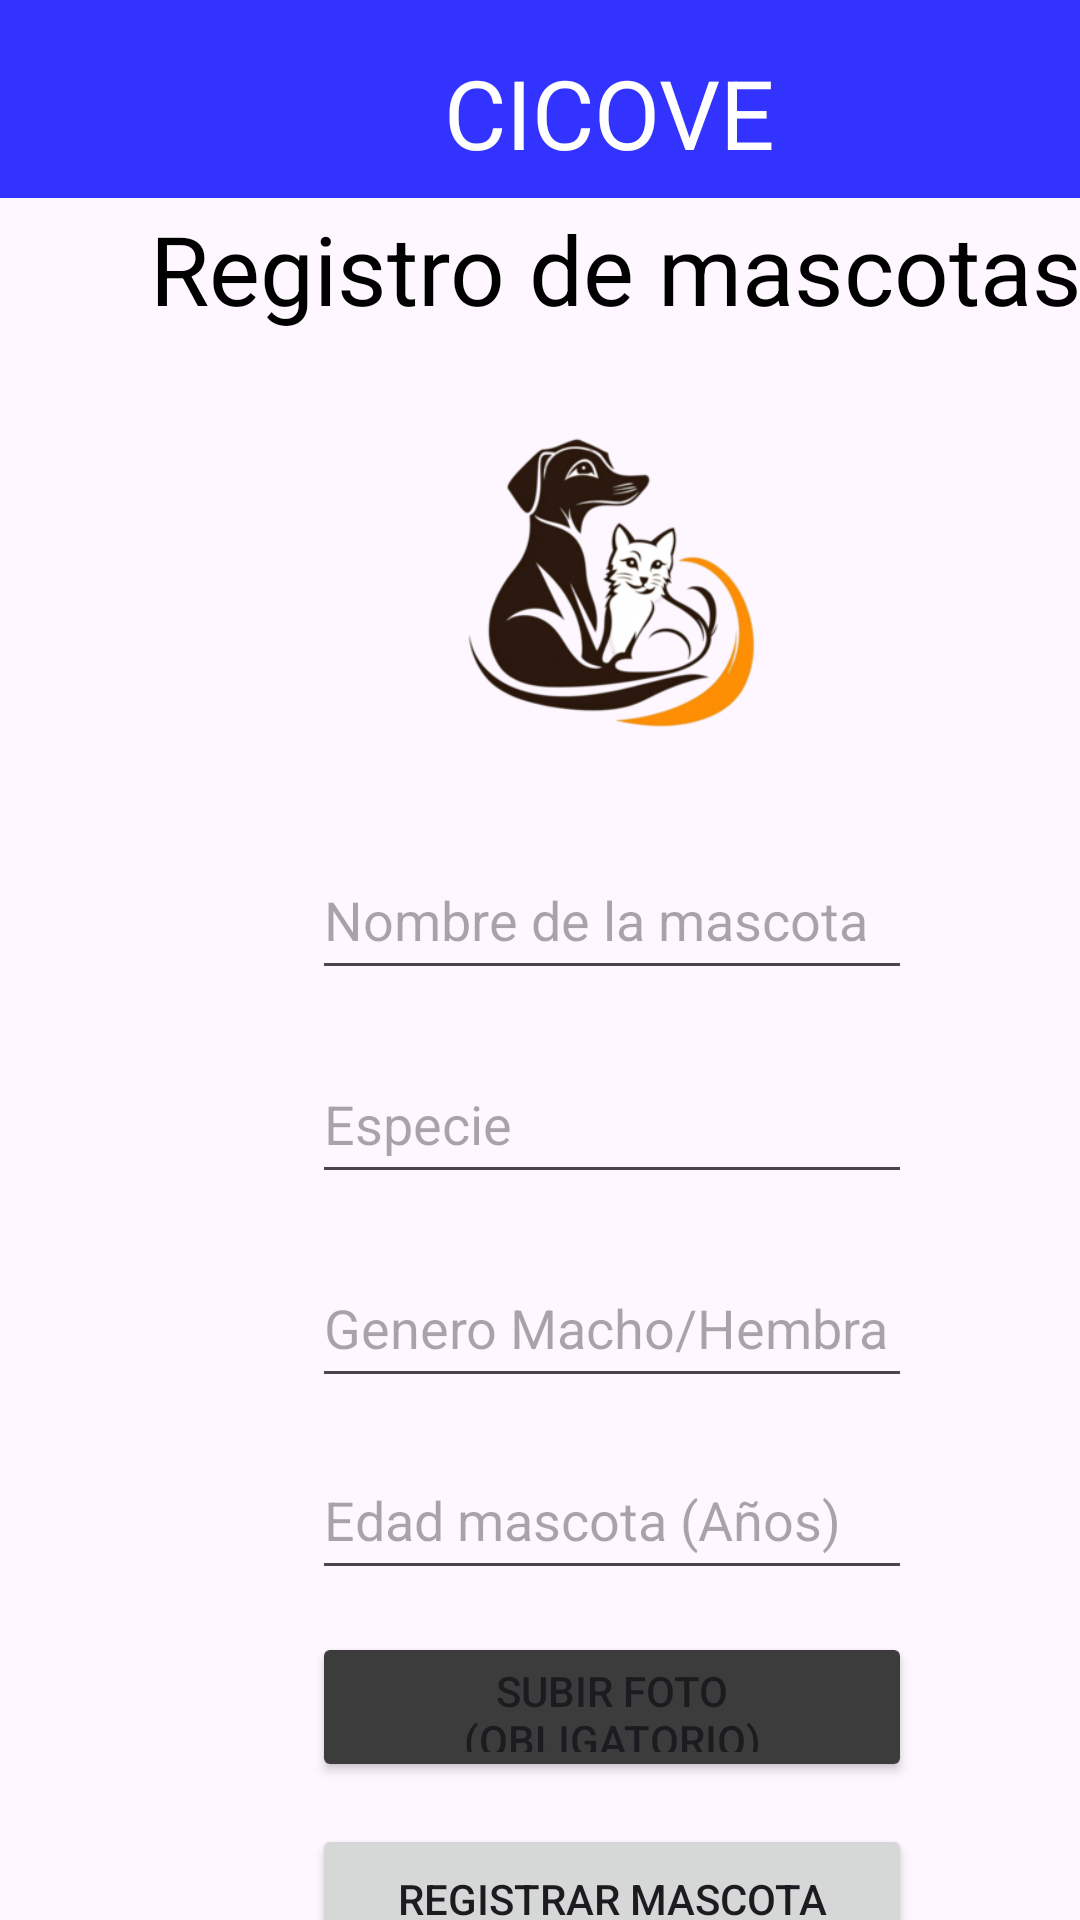

Icon click points for this 1080 x 1920 phone screenshot, format point (x, y):
Menu mascota: point (612, 583)
